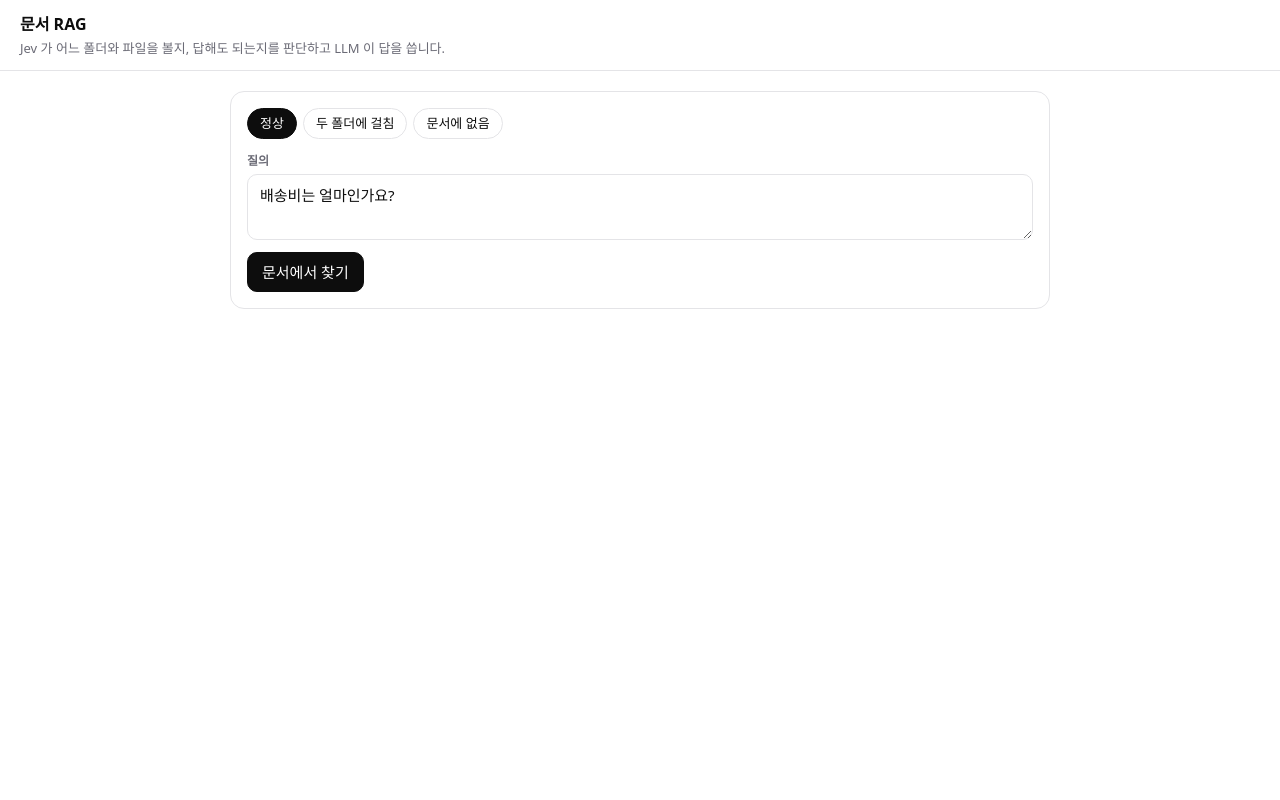
Scenario: RagTab › should show sections in the policy order
Click the button "문서에서 찾기": click(305, 272) [247,252,364,292]
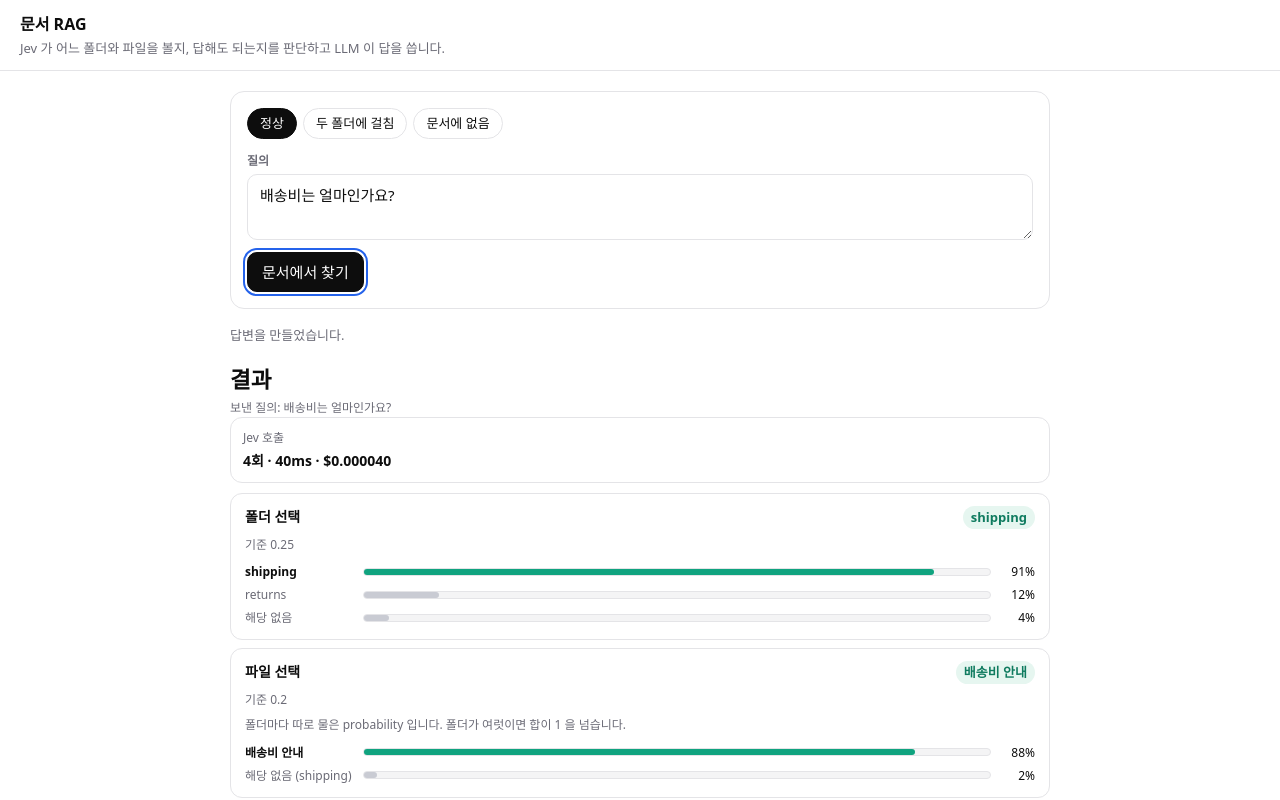
Expected: the heading "문서 RAG" is shown, [20,13,86,35]
Now the heading "결과" is shown, box [230,364,271,395]
Now the message reads "답변을 만들었습니다.", box [230,326,344,344]
